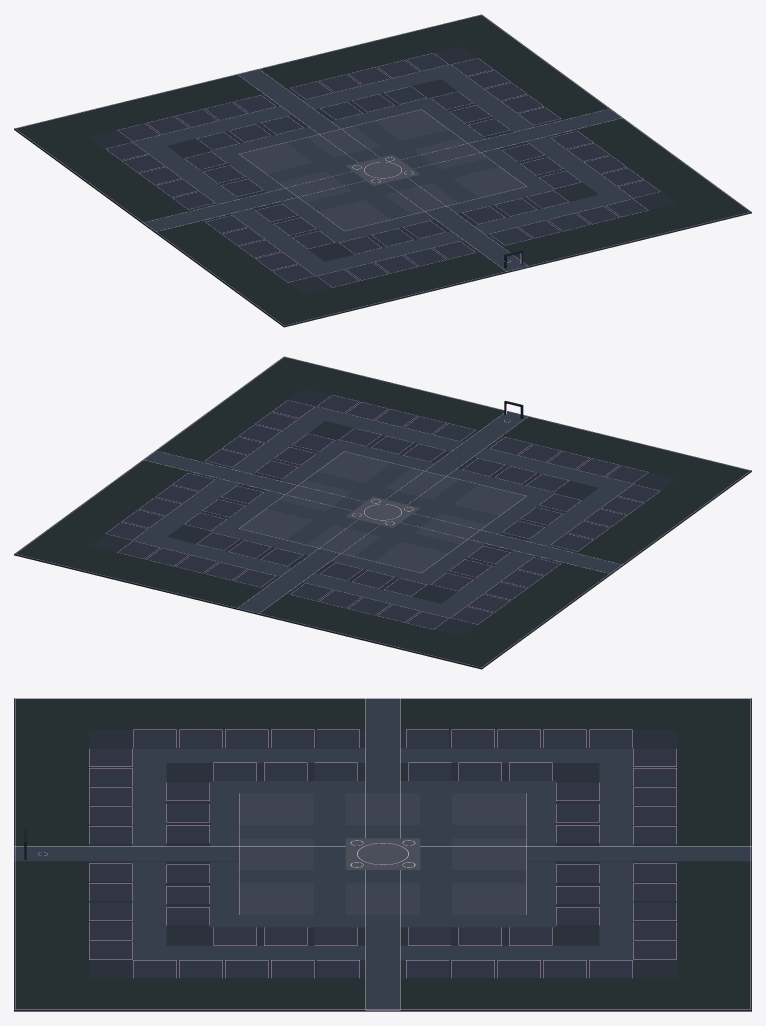
3 views of the same model, one above another, from view 1: azimuth 30°, elevation 25°; view 2: azimuth 150°, elevation 25°; view 3: azimuth 270°, elevation 25° (orthographic). The views are drawn at different scales.
Visible parts, largest first — view 1: district_cero.lod0; view 2: district_cero.lod0; view 3: district_cero.lod0.
Part boxes in pixels (x1,y1,x2,y2): district_cero.lod0: (14, 14, 751, 327); district_cero.lod0: (14, 356, 751, 669); district_cero.lod0: (14, 698, 751, 1011).
Size of the model in its own units: 256 by 7.62 by 256.
